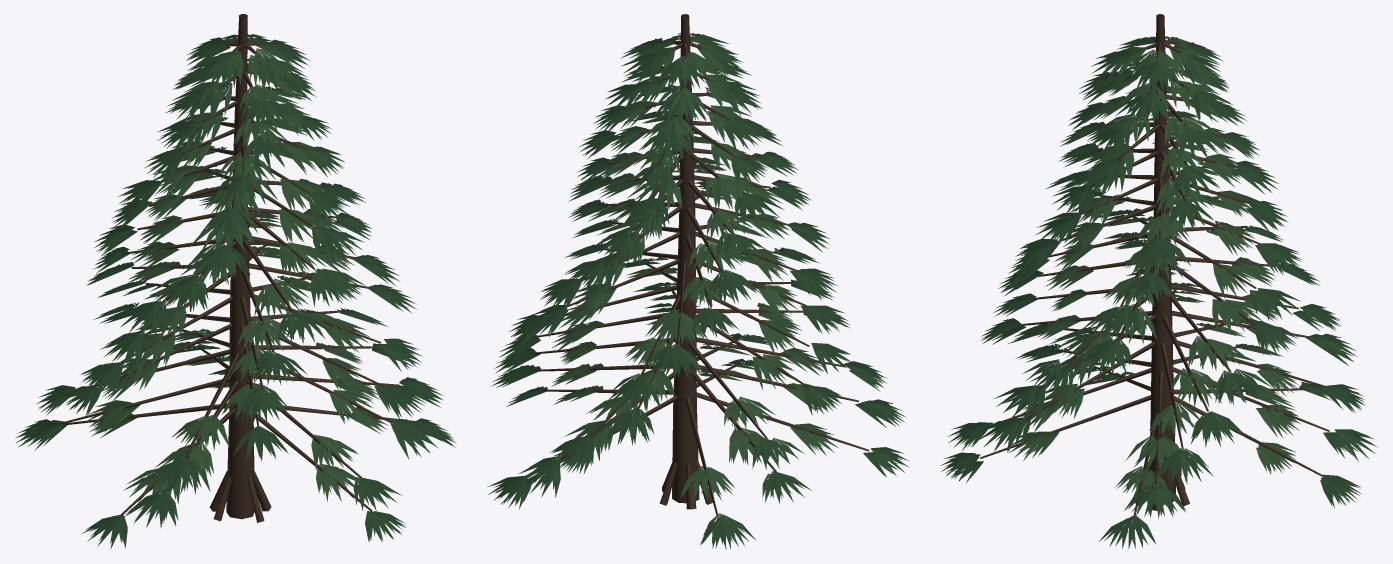
Rendered from pine_1.glb.
The picture shows the model from 3 angles, left to right: view 1: azimuth 30°, elevation 25°; view 2: azimuth 150°, elevation 25°; view 3: azimuth 270°, elevation 25°; orthographic projection. The views are drawn at different scales.
Parts seen in each view (by area): view 1: pine_1_LOD0; view 2: pine_1_LOD0; view 3: pine_1_LOD0.
Part boxes in pixels (bbox=[...]): pine_1_LOD0: bbox=[15, 14, 455, 548]; pine_1_LOD0: bbox=[487, 14, 909, 549]; pine_1_LOD0: bbox=[940, 14, 1376, 548].
Size of what is drawn, in the model's own units: 1.83 by 2.26 by 1.85.
